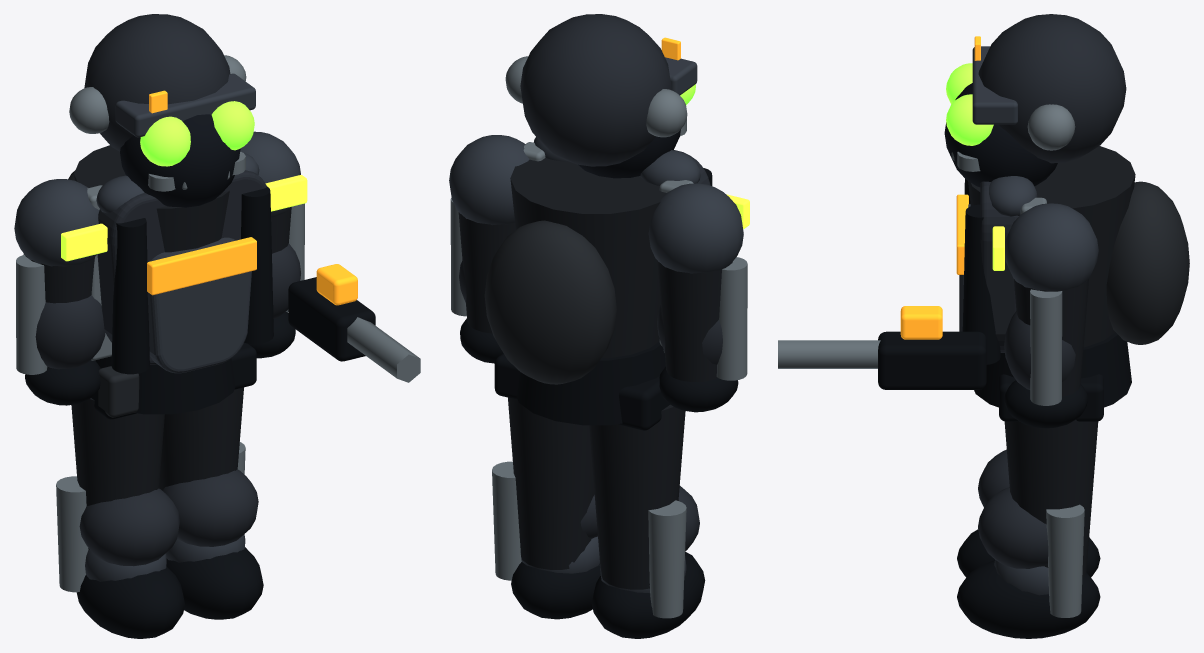
File: assault_l01.glb
The picture shows the model from 3 angles, left to right: view 1: azimuth 30°, elevation 25°; view 2: azimuth 150°, elevation 25°; view 3: azimuth 270°, elevation 25°; orthographic projection. The views are drawn at different scales.
Parts seen in each view (by area): view 1: trouser (×2), shaped_knee_guard (×2), rounded_helmet, rounded_boot (×2), vest_tether (×2), front_plate, shoulder_joint (×2), enclosed_mask, curved_forearm_guard (×2), contoured_vest, body, waist_flex (+18 smaller); view 2: trouser (×2), rounded_helmet, shaped_field_pack, body, shoulder_joint (×2), sleeve (×2), rounded_boot (×2), shin_frame (×2), waist_flex, forearm_seam (×2), glove (×2), belt (+7 smaller); view 3: rounded_helmet, shaped_field_pack, trouser, body, rounded_boot (×2), shoulder_joint, carbine_body, shaped_knee_guard (×2), shin_frame, forearm_seam, enclosed_mask, waist_flex (+16 smaller).
Part boxes in pixels (x1,y1,x2,y2): trouser (×2): (71, 387, 243, 549); shaped_knee_guard (×2): (79, 469, 258, 566); rounded_helmet: (84, 14, 230, 151); rounded_boot (×2): (76, 547, 263, 638); vest_tether (×2): (111, 186, 273, 374); front_plate: (147, 237, 251, 373); shoulder_joint (×2): (14, 131, 300, 266); enclosed_mask: (120, 114, 240, 207); curved_forearm_guard (×2): (35, 243, 300, 369); contoured_vest: (97, 170, 266, 364); body: (74, 145, 229, 252); waist_flex: (95, 356, 235, 414); trouser (×2): (508, 397, 685, 589); rounded_helmet: (520, 14, 671, 166); shaped_field_pack: (484, 220, 616, 384); body: (510, 158, 665, 358); shoulder_joint (×2): (449, 135, 743, 273); sleeve (×2): (458, 212, 732, 381); rounded_boot (×2): (511, 551, 705, 638); shin_frame (×2): (492, 461, 686, 618); waist_flex: (516, 341, 665, 425); forearm_seam (×2): (450, 197, 747, 380); glove (×2): (460, 318, 738, 412); belt: (494, 353, 669, 430); rounded_helmet: (978, 14, 1126, 163); shaped_field_pack: (1106, 181, 1189, 344); trouser: (1004, 419, 1098, 577); body: (968, 146, 1135, 347); rounded_boot (×2): (957, 529, 1100, 638); shoulder_joint: (1005, 203, 1098, 291); carbine_body: (878, 331, 986, 389); shaped_knee_guard (×2): (978, 449, 1048, 568); shin_frame: (1046, 504, 1084, 617); forearm_seam: (1030, 289, 1062, 405); enclosed_mask: (944, 83, 1057, 187); waist_flex: (974, 332, 1131, 407).
Bounding box in the file's own units: 0.9406 × 1.87 × 1.18.
